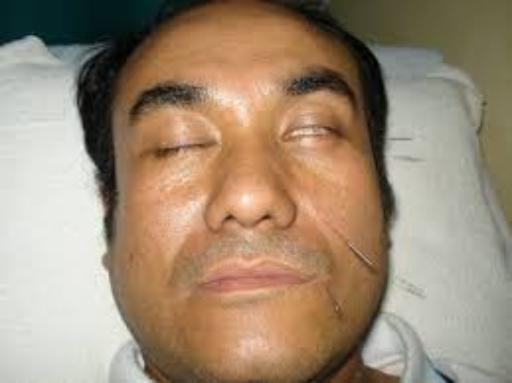left_eye: (285, 127, 346, 146)
left_lip_corner: (288, 269, 333, 293)
right_eye: (148, 129, 220, 162)
right_lip_corner: (190, 273, 225, 293)
